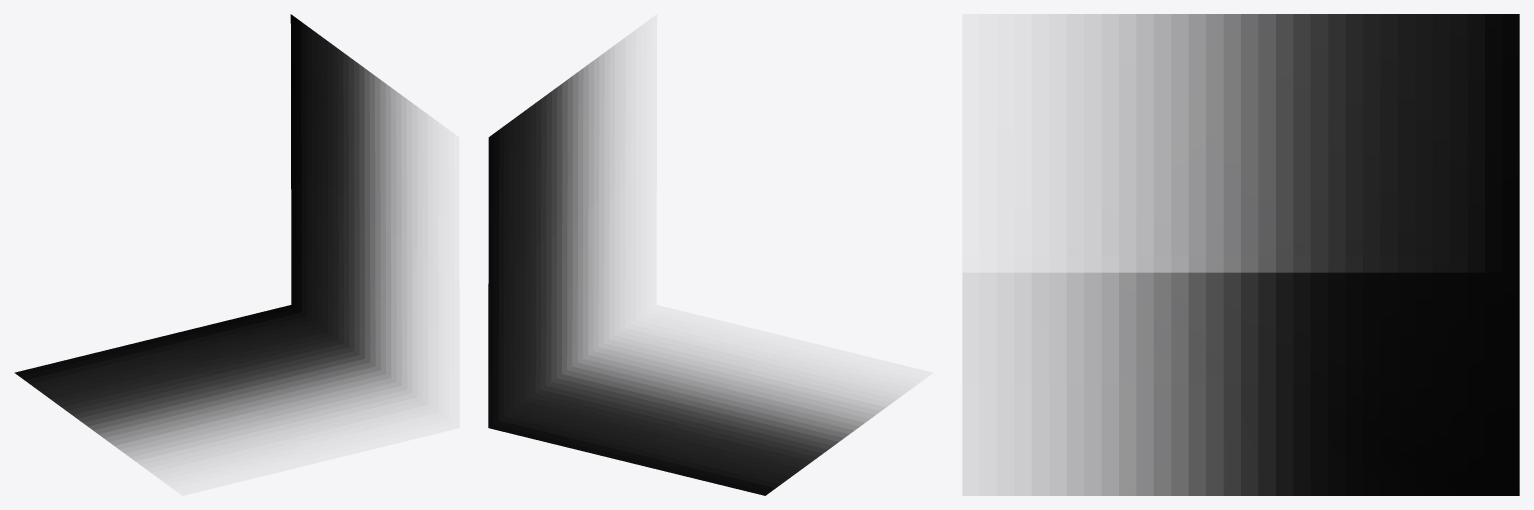
The picture shows the model from 3 angles, left to right: view 1: azimuth 30°, elevation 25°; view 2: azimuth 150°, elevation 25°; view 3: azimuth 270°, elevation 25°; orthographic projection. The views are drawn at different scales.
Parts seen in each view (by area): view 1: model_Object07; view 2: model_Object07; view 3: model_Object07.
Boxes of the visible parts, x1,y1,x2,y2 form: model_Object07: (14,14,427,468); model_Object07: (488,39,895,495); model_Object07: (997,14,1519,495).
Size of the model in its own units: 5.94 by 5.96 by 6.25.
Materials: 1 (1 with a texture image).
